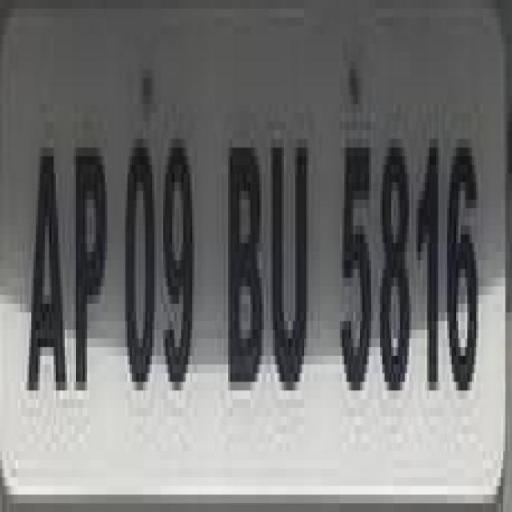number plate: (9, 44, 512, 494)
